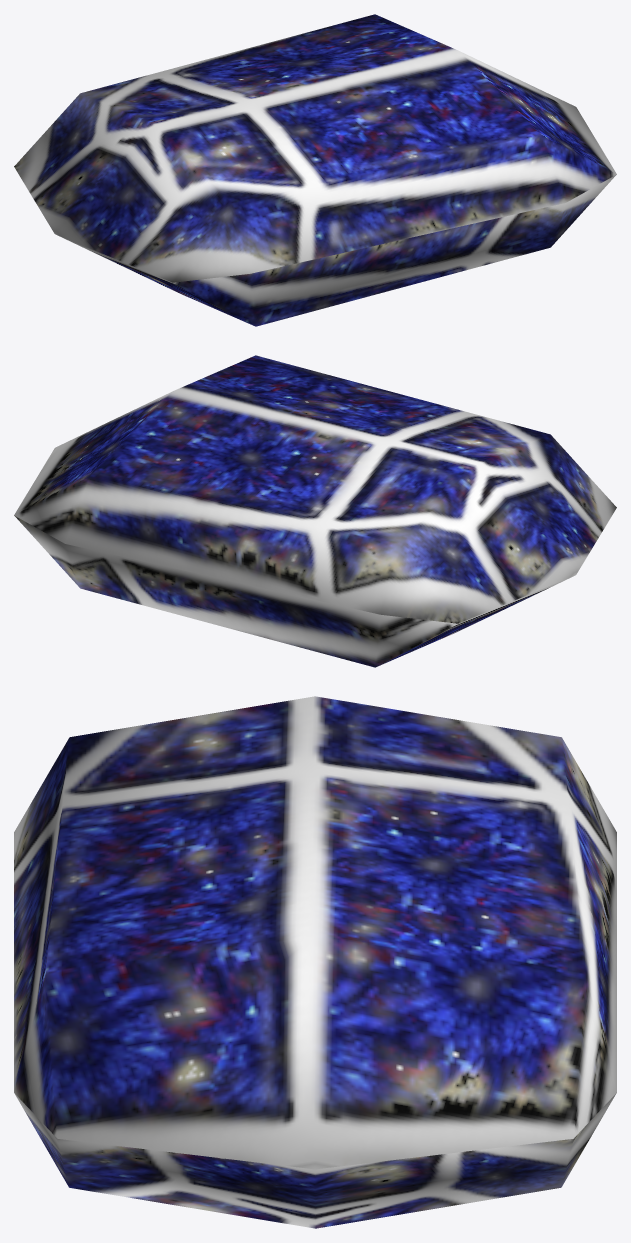
The model's file is shipBadModel.fbx.
3 renders of one model, top to bottom at view 1: azimuth 30°, elevation 25°; view 2: azimuth 150°, elevation 25°; view 3: azimuth 270°, elevation 25°, orthographic. The views are drawn at different scales.
Parts seen in each view (by area): view 1: Объект_Плоскость; view 2: Объект_Плоскость; view 3: Объект_Плоскость.
Boxes of the visible parts, left/top/right/bottom form: Объект_Плоскость: left=14, top=14, right=616, bottom=326; Объект_Плоскость: left=14, top=355, right=616, bottom=667; Объект_Плоскость: left=14, top=696, right=616, bottom=1228.
Size of the model in its own units: 673 by 211 by 415.
